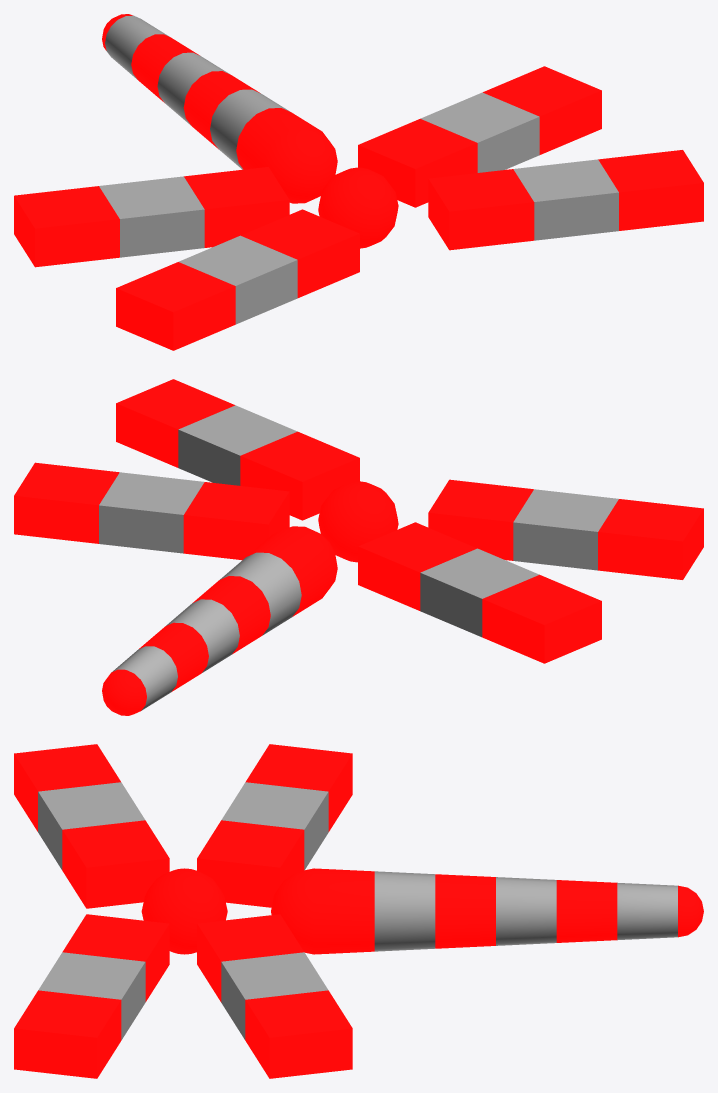
The model's file is enemy3.fbx.
3 renders of one model, top to bottom at view 1: azimuth 30°, elevation 25°; view 2: azimuth 150°, elevation 25°; view 3: azimuth 270°, elevation 25°, orthographic. The views are drawn at different scales.
Visible parts, largest first — view 1: Ene_TNB; view 2: Ene_TNB; view 3: Ene_TNB.
Part boxes in pixels (<box>): Ene_TNB: <box>14,14,703,350</box>; Ene_TNB: <box>14,379,703,715</box>; Ene_TNB: <box>14,744,703,1078</box>.
Bounding box in the file's own units: 646 × 80 × 641.
